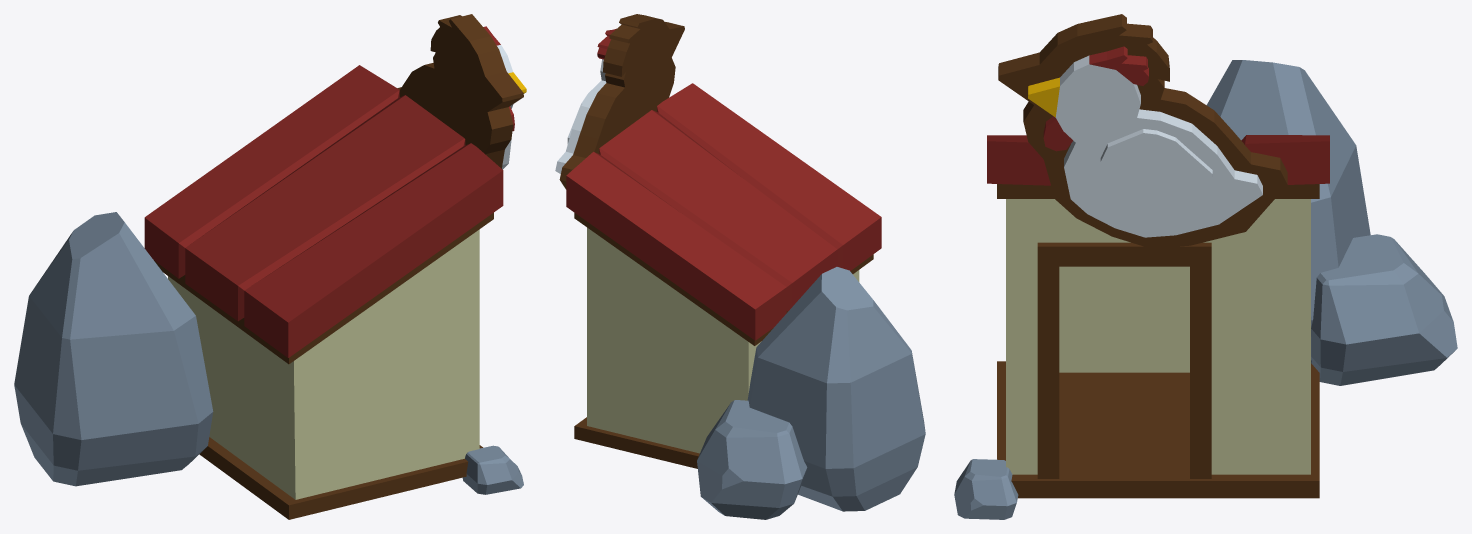
File: ChickenCoopSpawn.fbx
3 views of the same model, side by side, from view 1: azimuth 30°, elevation 25°; view 2: azimuth 150°, elevation 25°; view 3: azimuth 270°, elevation 25° (orthographic). The views are drawn at different scales.
Parts seen in each view (by area): view 1: ChickenCoopSpawn; view 2: ChickenCoopSpawn; view 3: ChickenCoopSpawn.
Part boxes in pixels (bbox=[...]): ChickenCoopSpawn: bbox=[14, 14, 526, 519]; ChickenCoopSpawn: bbox=[555, 14, 925, 519]; ChickenCoopSpawn: bbox=[954, 14, 1457, 519].
Bounding box in the file's own units: 652 × 644 × 587.
